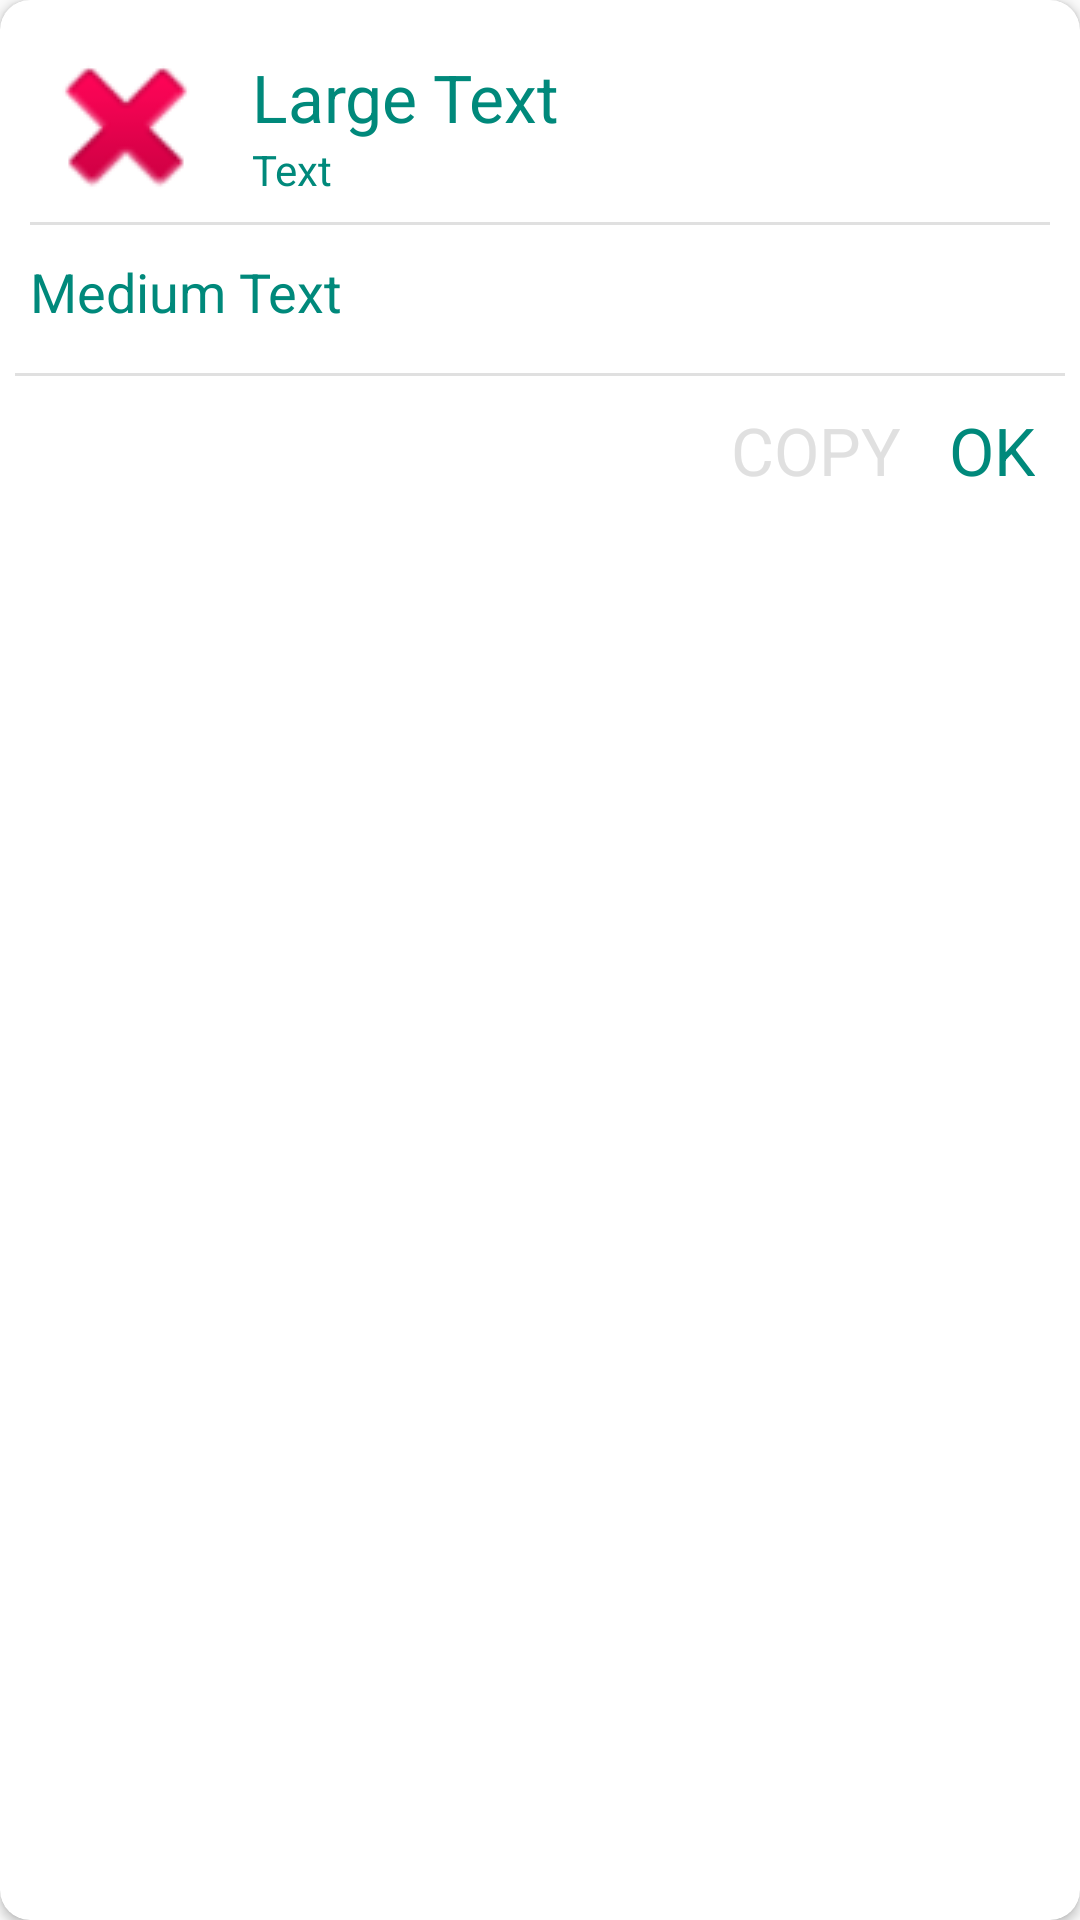

Point at icon controls on the screen. Image size 1080px×1920px, points as (x=x, y=y).
delete: (x=126, y=127)
